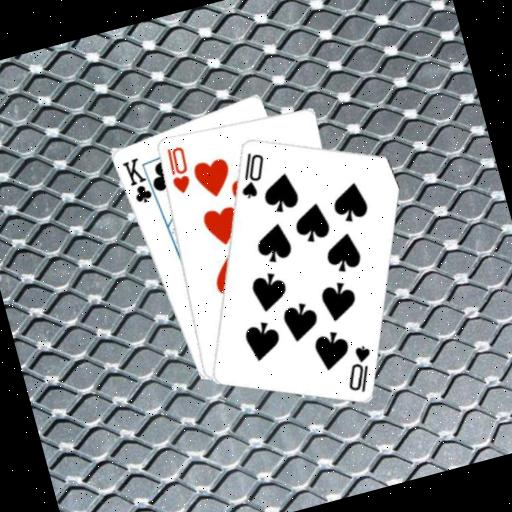10H: (160, 142, 196, 197)
10S: (335, 340, 382, 397), (228, 145, 274, 201)
KC: (117, 151, 160, 211)
